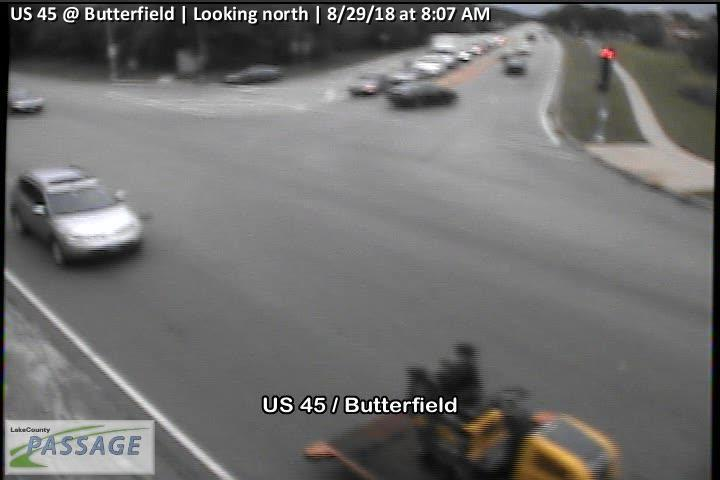SUV: (7, 162, 148, 269), (390, 81, 457, 106), (349, 70, 390, 95), (413, 55, 446, 78), (503, 56, 525, 75)
Sedan: (224, 63, 283, 85), (8, 86, 44, 115), (390, 68, 418, 81)
Truck: (301, 339, 625, 480), (429, 31, 461, 69)
